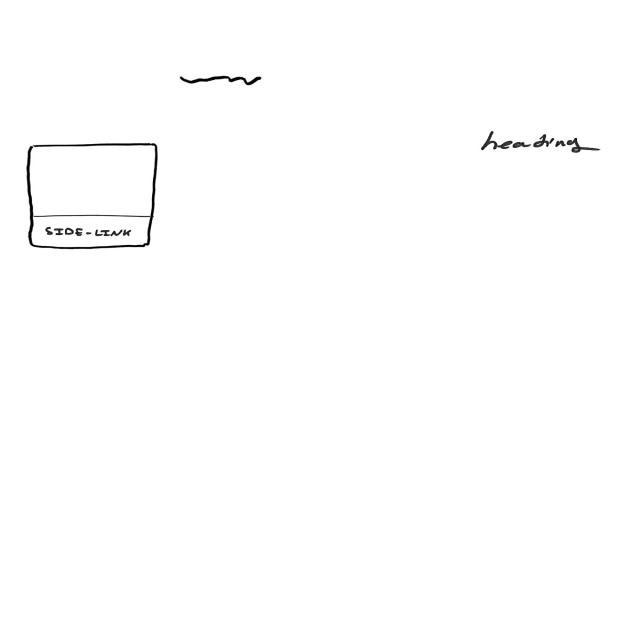container: (21, 140, 162, 252)
label: (468, 124, 607, 162), (42, 223, 134, 240)
text: (172, 70, 272, 90)
